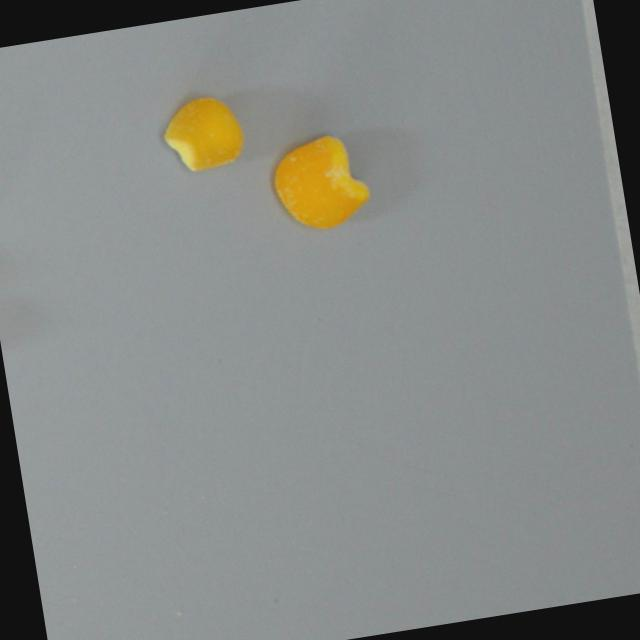no_desgerminado: (155, 88, 252, 182)
pelicula: (265, 124, 378, 241)
